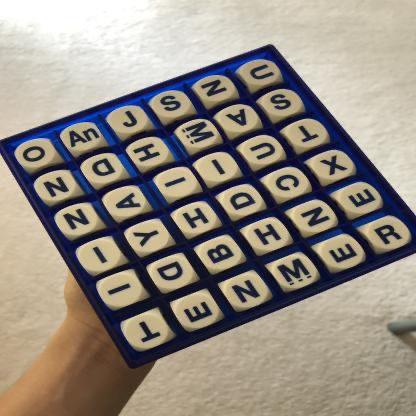a: (107, 189, 149, 217), (221, 106, 260, 134)
an: (62, 124, 102, 152)
b: (200, 239, 243, 271)
c: (269, 170, 309, 198)
d: (152, 257, 195, 291), (223, 187, 264, 217), (84, 156, 124, 185)
e: (177, 296, 221, 330), (323, 237, 365, 271), (341, 185, 383, 216)
h: (248, 220, 290, 252), (176, 204, 217, 235), (129, 139, 171, 167)
i: (99, 275, 144, 308), (79, 241, 124, 272), (160, 169, 199, 198), (199, 155, 239, 183)
j: (110, 107, 149, 135)
m: (276, 257, 319, 289), (180, 121, 219, 150)
n: (226, 275, 269, 308), (294, 202, 337, 234), (58, 206, 99, 236), (36, 172, 78, 201), (198, 76, 235, 103)
o: (18, 140, 55, 169)
r: (370, 220, 411, 251)
s: (264, 90, 303, 118), (154, 92, 191, 119)
t: (125, 315, 170, 350), (289, 121, 328, 149)
u: (245, 137, 285, 165), (243, 61, 280, 86)
x: (314, 152, 354, 180)
y: (128, 223, 172, 253)
